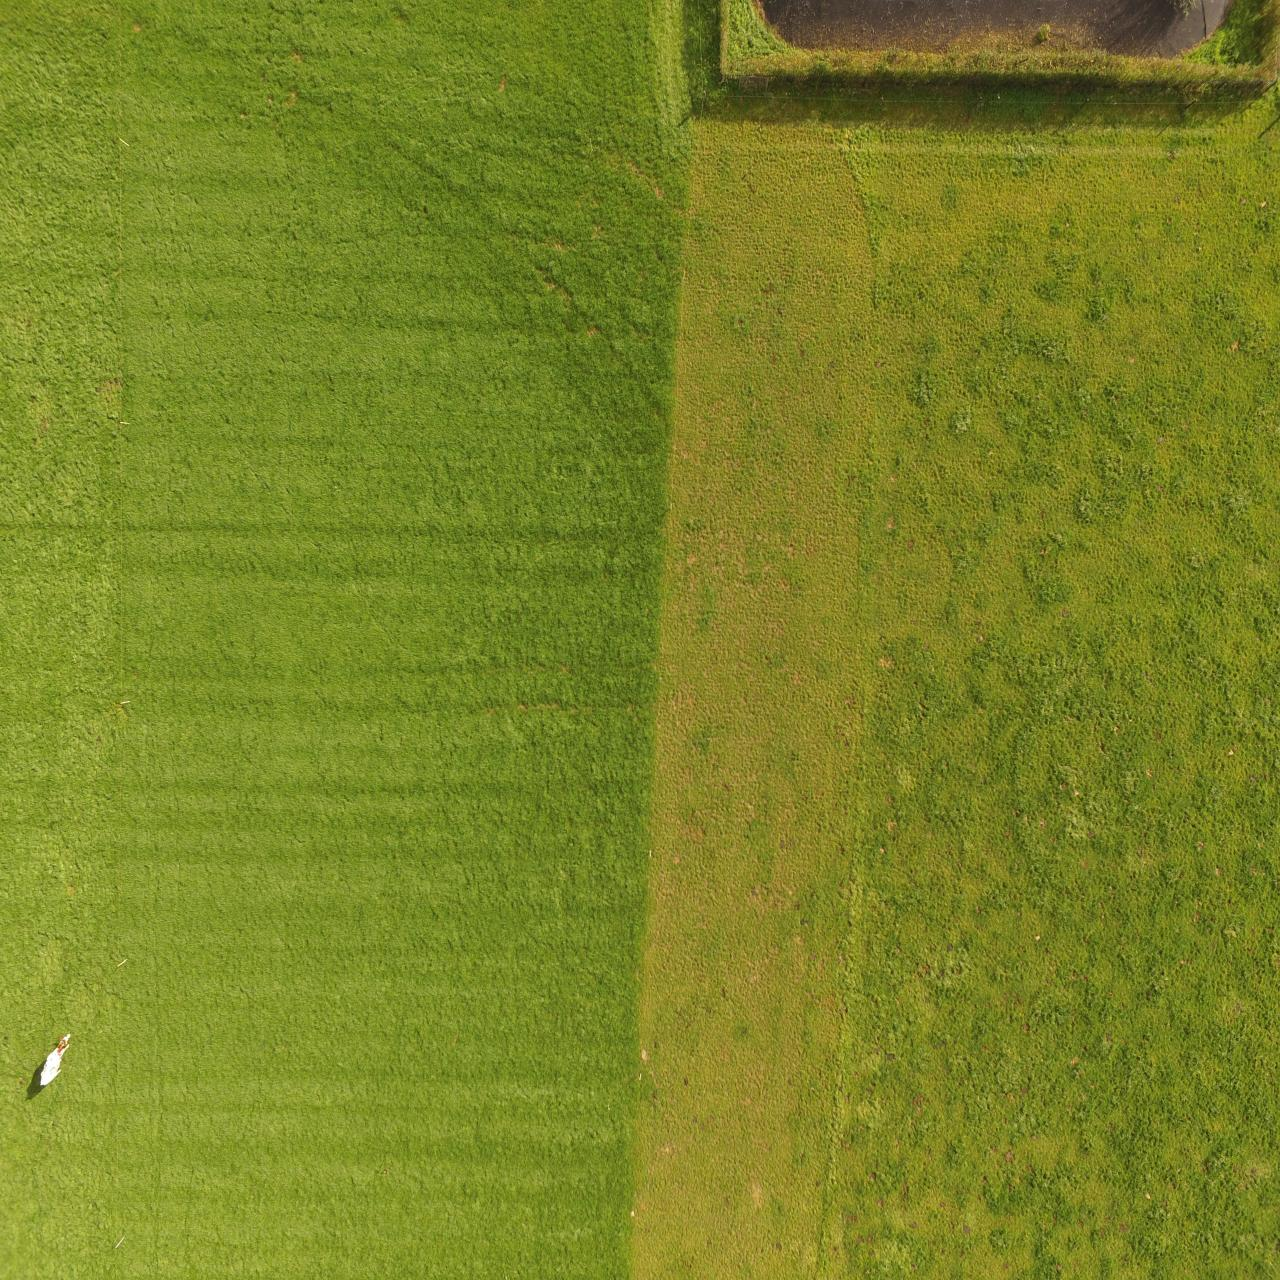cow: (33, 1028, 74, 1094)
